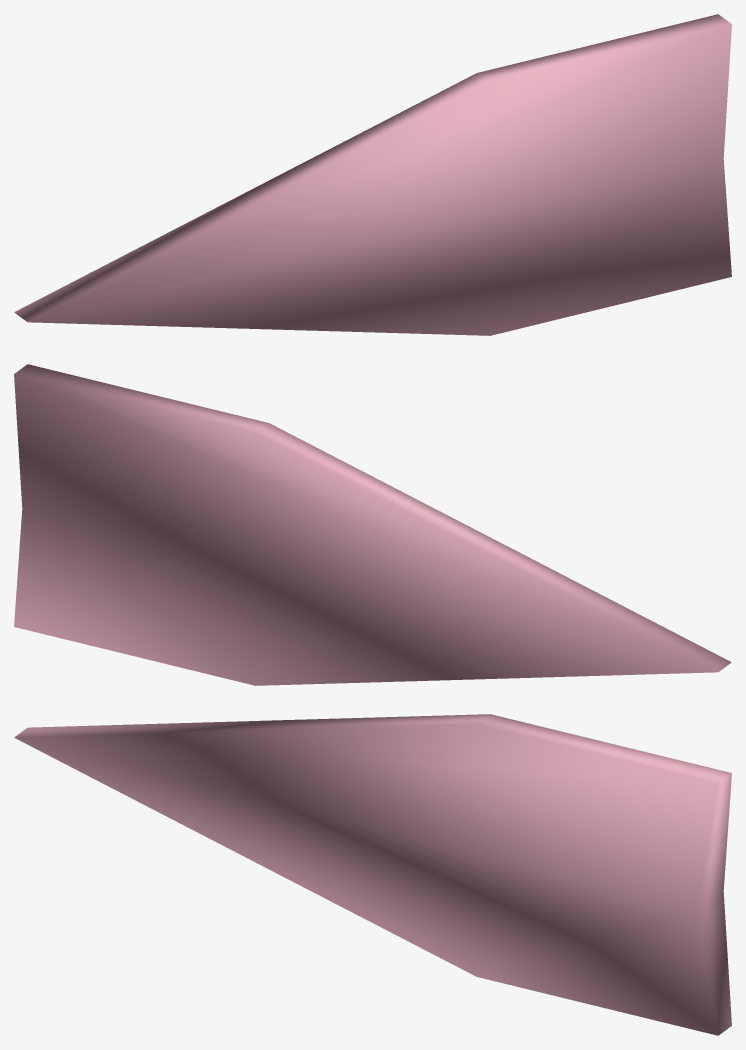
Rendered from fillet_low.glb.
The picture shows the model from 3 angles, top to bottom: view 1: azimuth 30°, elevation 25°; view 2: azimuth 150°, elevation 25°; view 3: azimuth 330°, elevation 25°; orthographic projection.
Visible parts, largest first — view 1: fillet; view 2: fillet; view 3: fillet.
Boxes of the visible parts, x1,y1,x2,y2 form: fillet: (14, 14, 731, 335); fillet: (14, 364, 731, 685); fillet: (14, 714, 731, 1035).
Bounding box in the file's own units: 0.8491 × 0.2912 × 0.0545.
